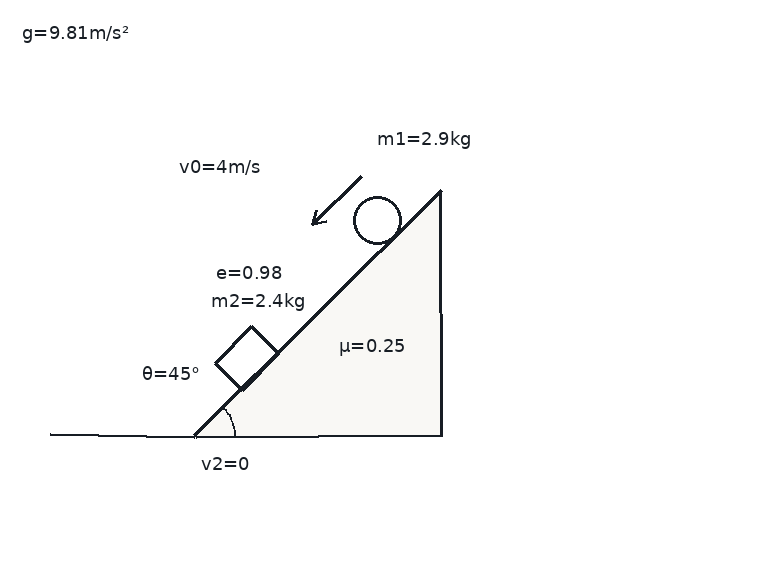ball: (351, 194, 403, 246)
block: (213, 325, 280, 391)
ramp: (193, 189, 442, 438)
